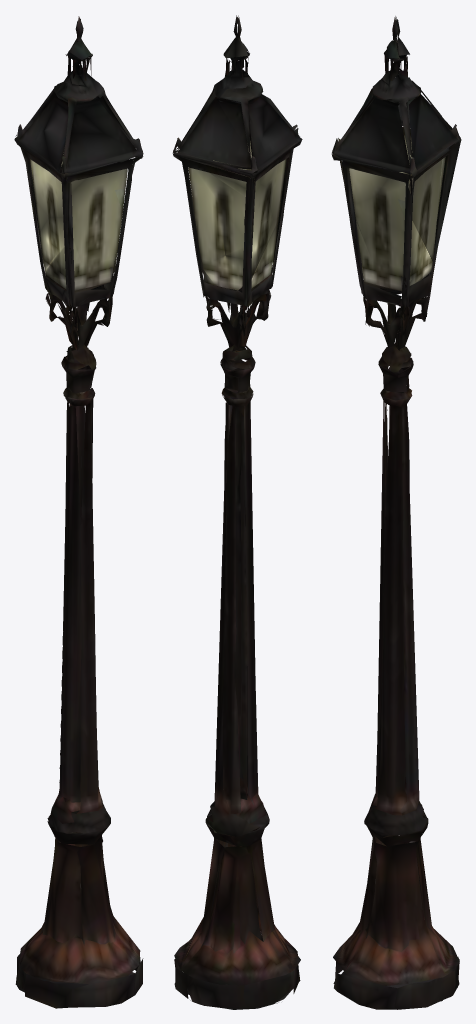
Rendered from farol_calle_1905.movil.glb.
3 renders of one model, left to right at view 1: azimuth 30°, elevation 25°; view 2: azimuth 150°, elevation 25°; view 3: azimuth 330°, elevation 25°, orthographic.
Parts seen in each view (by area): view 1: geometry_0; view 2: geometry_0; view 3: geometry_0.
Boxes of the visible parts, <box> form: geometry_0: <box>14,16,143,1008</box>; geometry_0: <box>172,15,302,1009</box>; geometry_0: <box>331,16,461,1009</box>.
Bounding box in the file's own units: 0.5 × 4.2 × 0.4974.
1 material, 1 textured.
